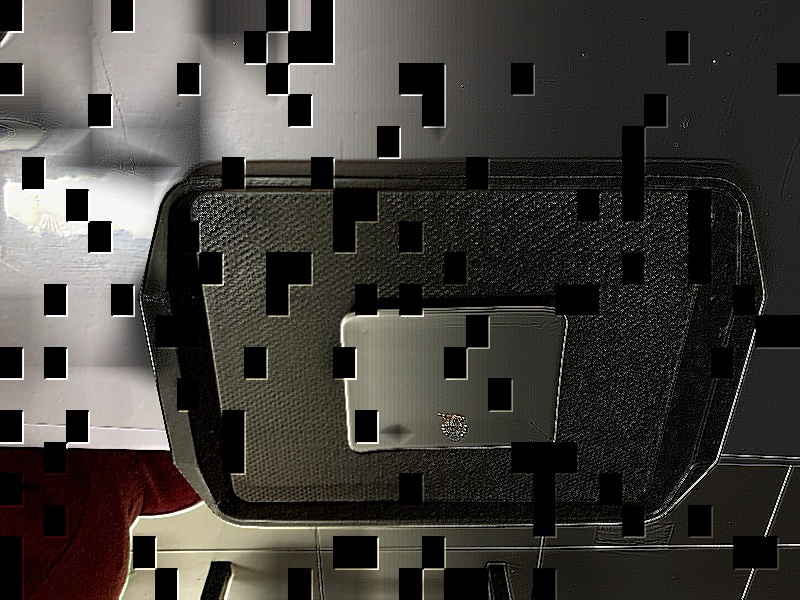dish4: (332, 300, 574, 459)
